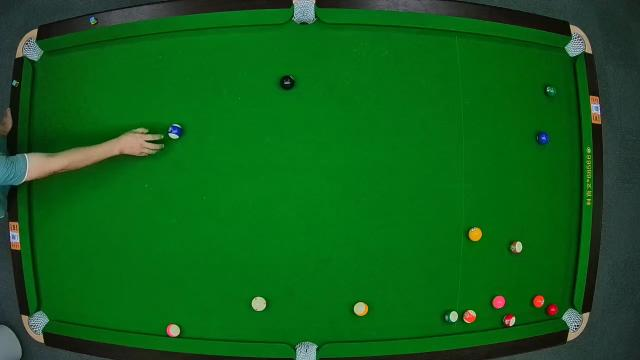bag1: (22, 42, 42, 60)
bag2: (291, 1, 317, 21)
bag3: (566, 36, 586, 58), (546, 304, 558, 317)
bag4: (27, 310, 48, 336), (491, 296, 507, 308)
bag5: (295, 342, 317, 360), (532, 294, 546, 310)
bag6: (562, 308, 582, 332)
ball0: (250, 296, 268, 312)
ball1: (468, 228, 484, 243)
ball10: (167, 123, 183, 139)
ball11: (504, 314, 516, 330)
ball12: (166, 323, 182, 338)
ball13: (462, 309, 478, 325)
ball14: (444, 308, 458, 324)
ball15: (508, 239, 526, 255)
ball2: (536, 131, 552, 146)
ball6: (544, 84, 560, 98)
ball9: (353, 300, 371, 318)
